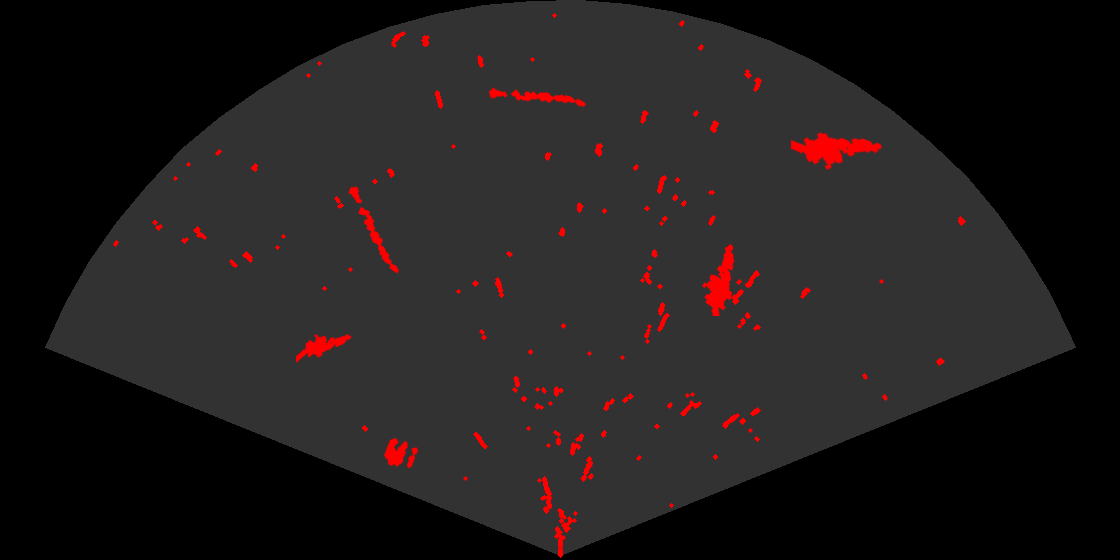ball: (382, 436, 420, 470)
chain: (347, 184, 401, 275), (487, 86, 588, 108)
frogman: (791, 131, 884, 172), (700, 242, 736, 316), (296, 332, 353, 364)
